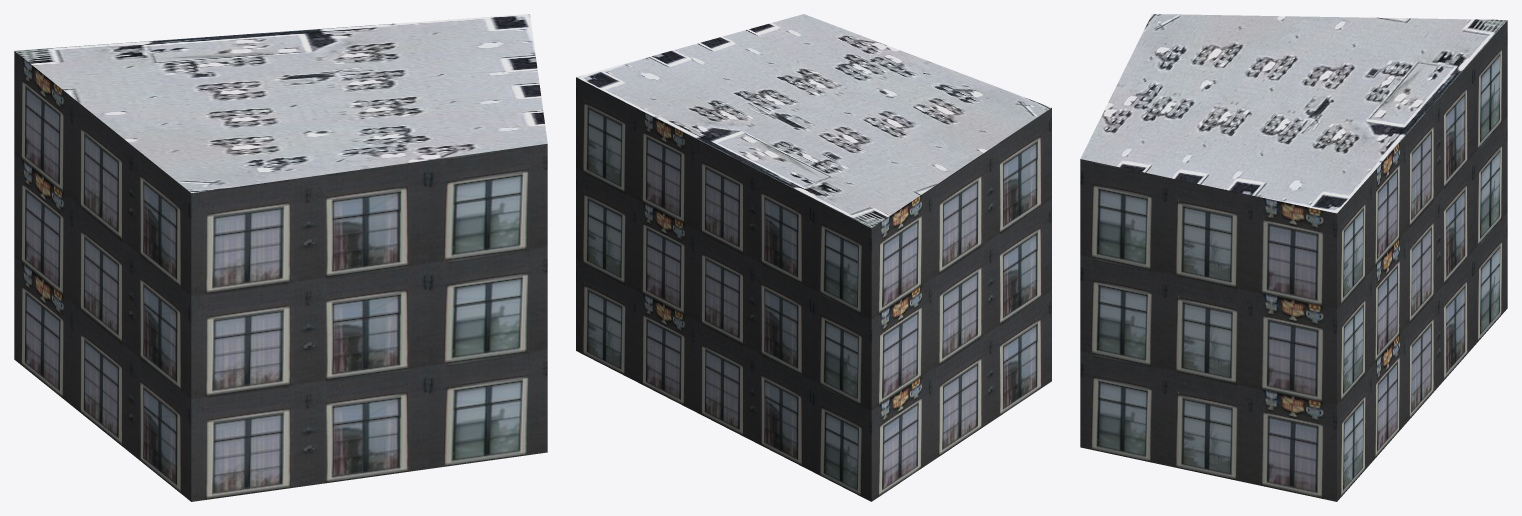
The model's file is ResTex__2683.fbx.
The picture shows the model from 3 angles, left to right: view 1: azimuth 30°, elevation 25°; view 2: azimuth 150°, elevation 25°; view 3: azimuth 270°, elevation 25°; orthographic projection. The views are drawn at different scales.
Parts seen in each view (by area): view 1: CityEngineMaterial_22_m, CityEngineMaterial_4_m; view 2: CityEngineMaterial_22_m, CityEngineMaterial_4_m; view 3: CityEngineMaterial_22_m, CityEngineMaterial_4_m.
Part boxes in pixels (x1,y1,x2,y2): CityEngineMaterial_22_m: [14, 51, 547, 501]; CityEngineMaterial_4_m: [14, 14, 547, 193]; CityEngineMaterial_22_m: [576, 77, 1051, 501]; CityEngineMaterial_4_m: [576, 14, 1051, 227]; CityEngineMaterial_22_m: [1080, 20, 1507, 501]; CityEngineMaterial_4_m: [1080, 14, 1507, 213].
Bounding box in the file's own units: 13.35 × 9 × 12.08.
Materials: 2 (2 with a texture image).
